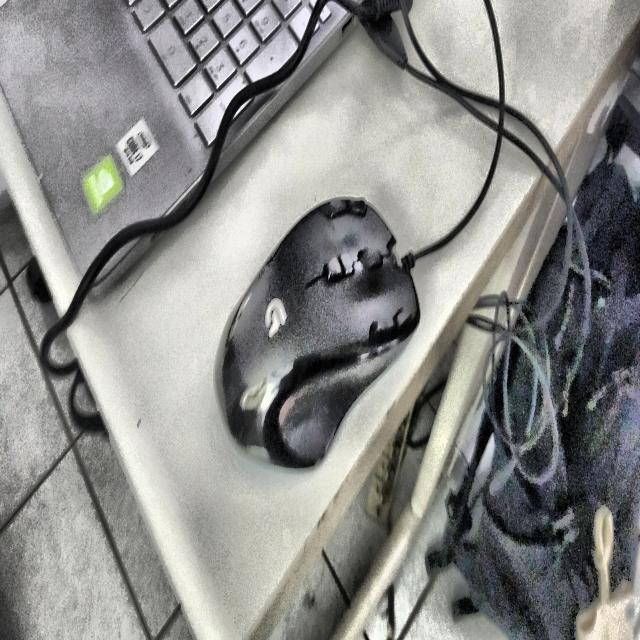Laptop: (0, 0, 303, 278), (220, 3, 348, 170)
MOUSE: (216, 199, 420, 468)
